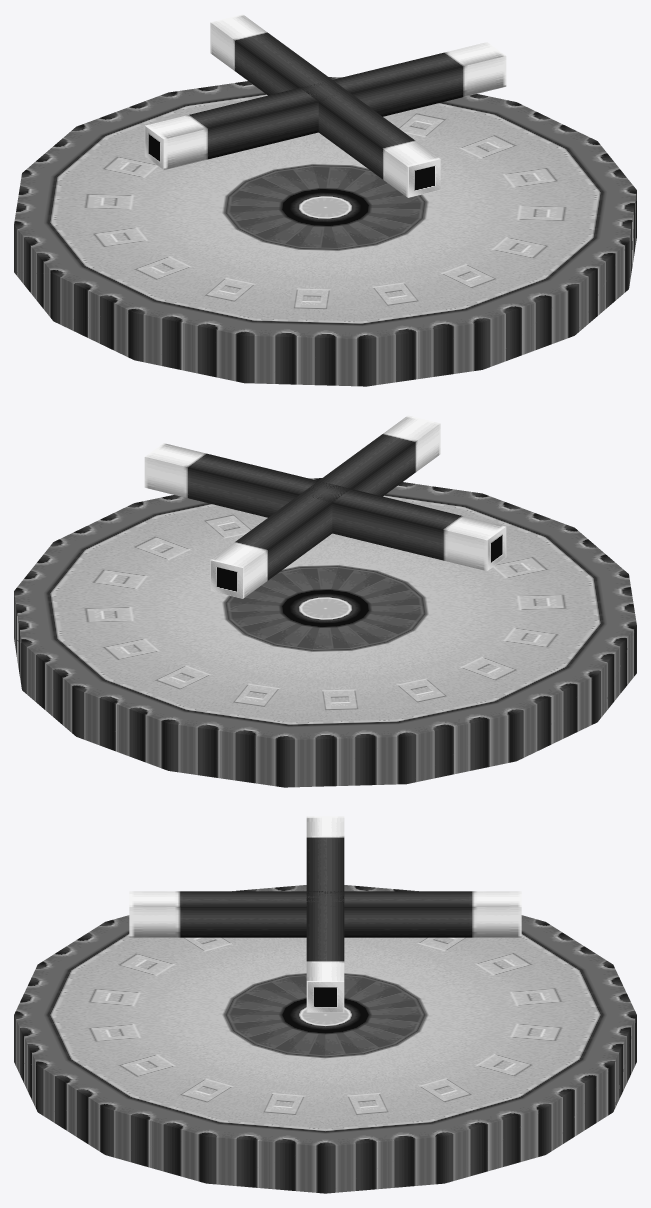
File: test1_course-gear_white.glb
3 views of the same model, one above another, from view 1: azimuth 30°, elevation 25°; view 2: azimuth 150°, elevation 25°; view 3: azimuth 270°, elevation 25° (orthographic).
Visible parts, largest first — view 1: gear_white; view 2: gear_white; view 3: gear_white.
Boxes of the visible parts, box(x1,y1,x2,y2) form: gear_white: box(14, 14, 636, 386); gear_white: box(14, 415, 636, 787); gear_white: box(14, 816, 636, 1193).
Size of the model in its own units: 37.5 by 10.81 by 37.5.
Materials: 1 (1 with a texture image).
